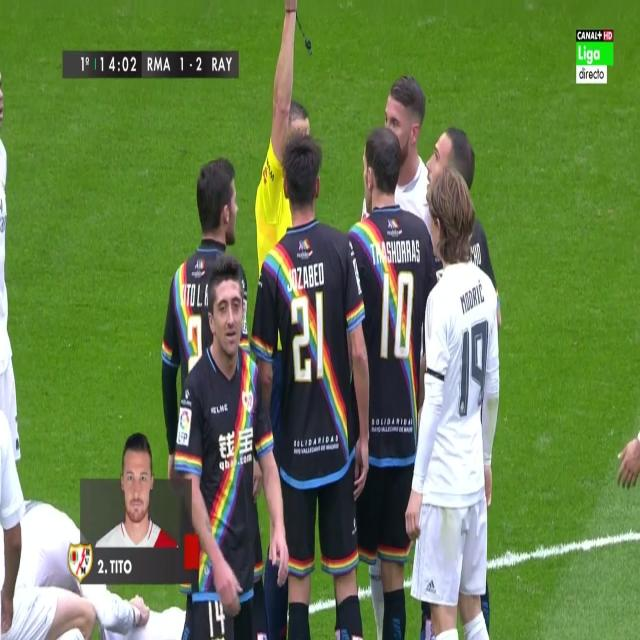Player: (251, 131, 370, 640), (403, 170, 501, 640), (174, 252, 288, 634), (348, 125, 432, 639), (161, 154, 249, 477), (426, 112, 492, 268), (385, 76, 437, 224)
Referee: (250, 0, 314, 273)
